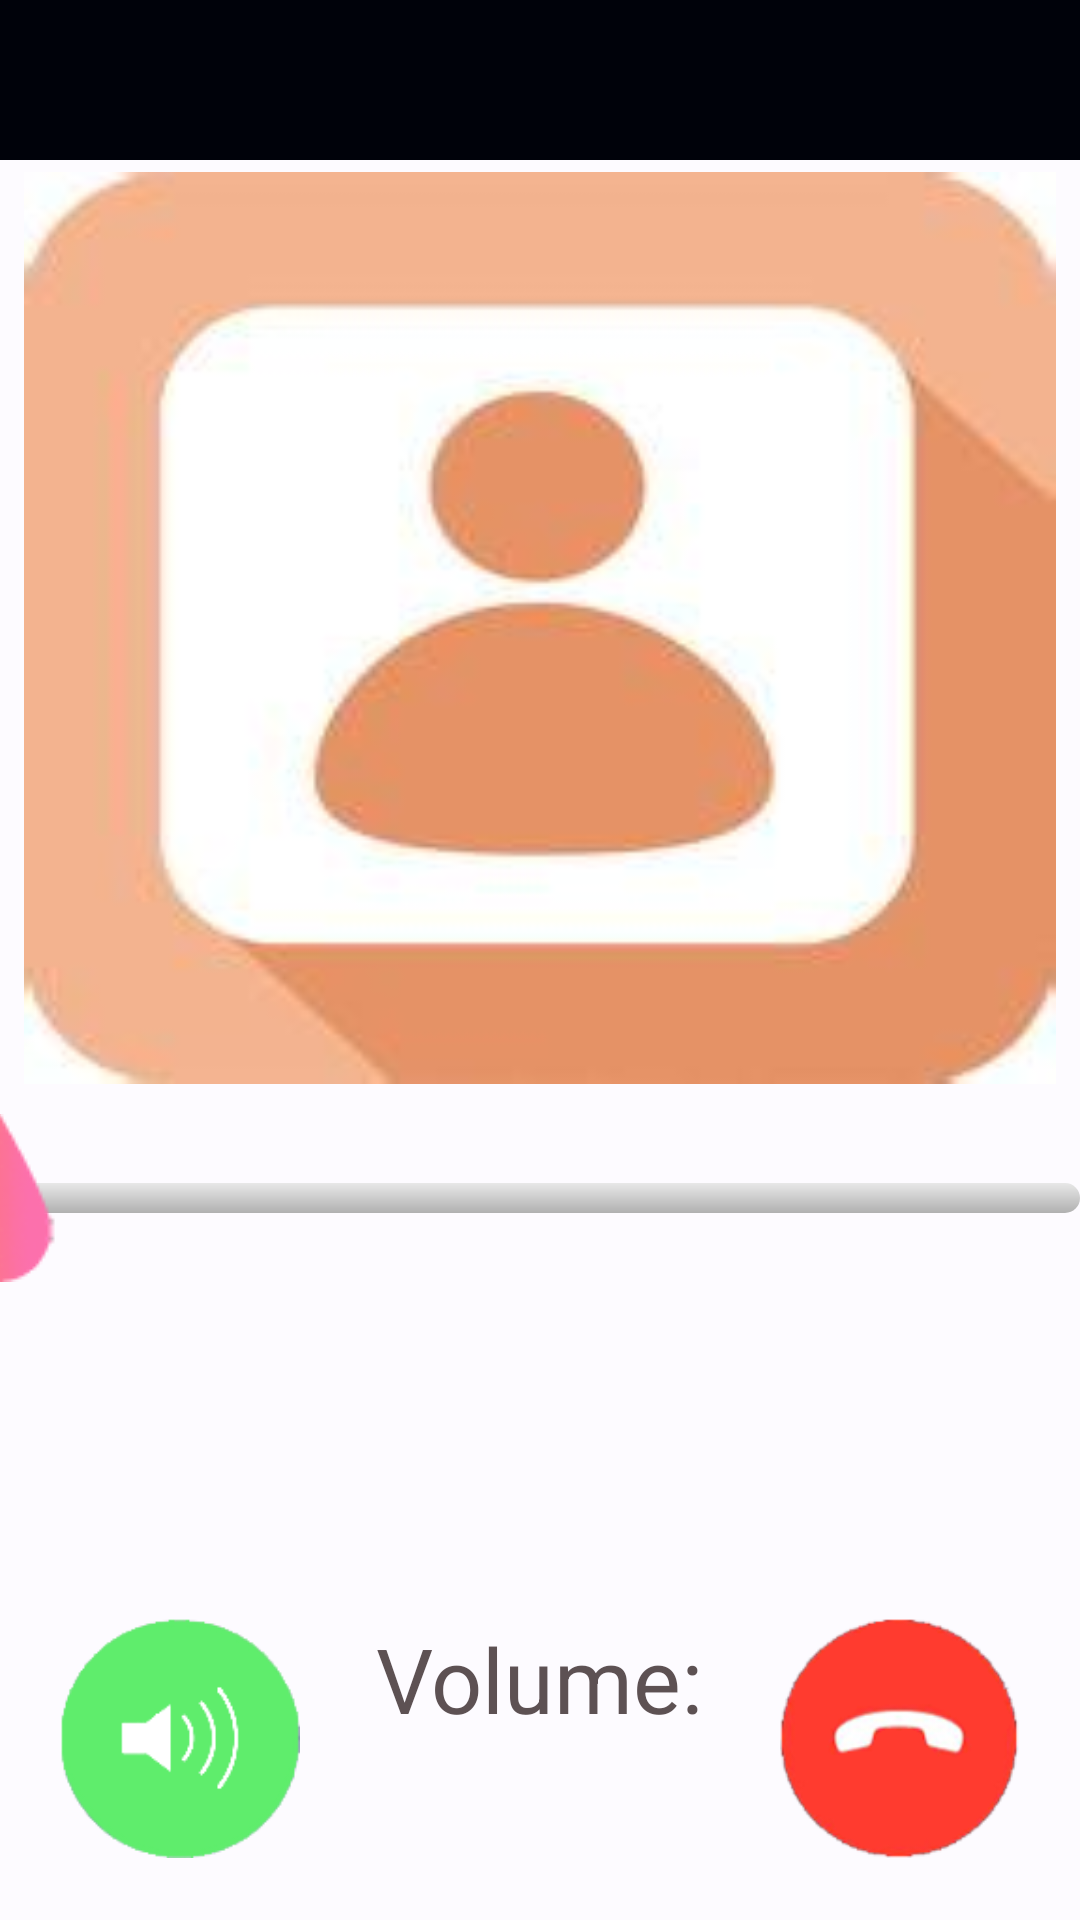

Where icons sit on this 1080 × 1920 app screen, as rect(x1, y1, x2, y2):
handoff: rect(780, 1619, 1017, 1858)
